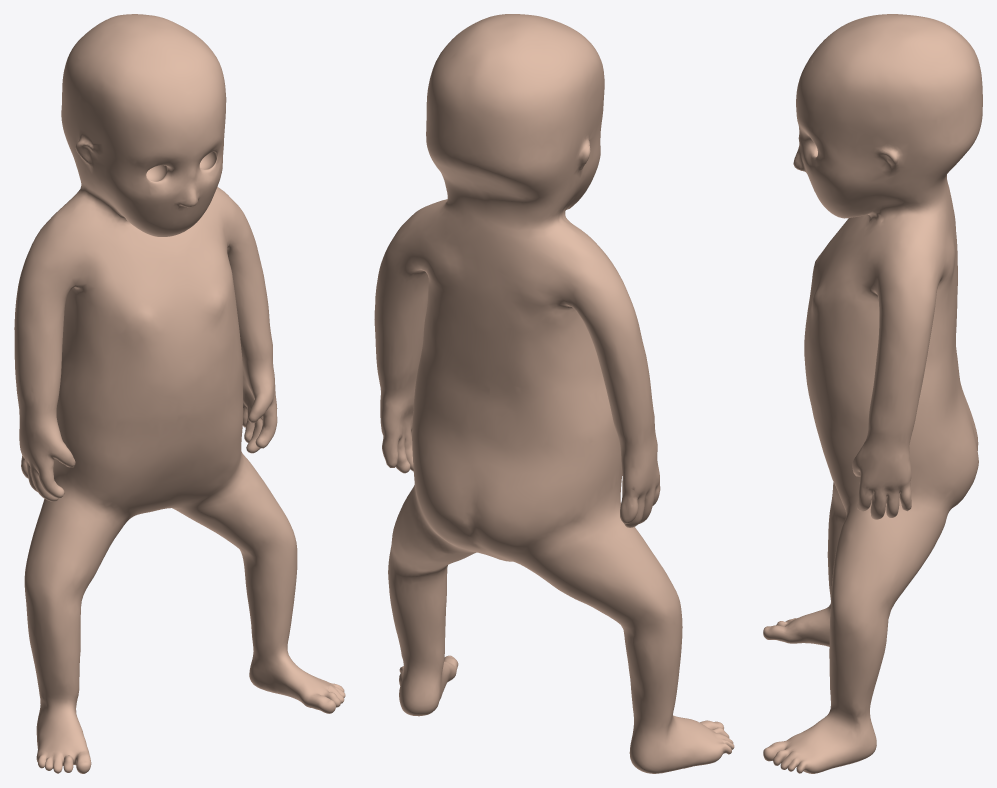
The model's file is pediatric_neonate_female.surface.LOD0.glb.
3 renders of one model, left to right at view 1: azimuth 30°, elevation 25°; view 2: azimuth 150°, elevation 25°; view 3: azimuth 270°, elevation 25°, orthographic. The views are drawn at different scales.
Visible parts, largest first — view 1: PEDIATRIC.NEONATE.FEMALE.SURFACE.SKIN; view 2: PEDIATRIC.NEONATE.FEMALE.SURFACE.SKIN; view 3: PEDIATRIC.NEONATE.FEMALE.SURFACE.SKIN.
Part boxes in pixels (bbox=[...]): PEDIATRIC.NEONATE.FEMALE.SURFACE.SKIN: bbox=[14, 14, 345, 773]; PEDIATRIC.NEONATE.FEMALE.SURFACE.SKIN: bbox=[374, 14, 734, 773]; PEDIATRIC.NEONATE.FEMALE.SURFACE.SKIN: bbox=[763, 14, 982, 773].
Size of the model in its own units: 0.2276 by 0.4817 by 0.1405.
